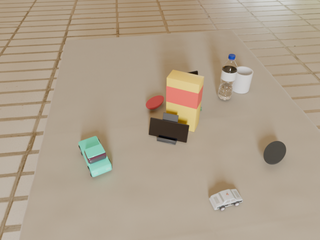bottle: (218, 54, 238, 101)
box: (166, 70, 204, 132)
cup: (233, 67, 253, 93)
mouse: (264, 141, 286, 164), (146, 96, 164, 109)
phone: (149, 118, 190, 143)
toy_car: (78, 136, 112, 177), (209, 189, 243, 211)
